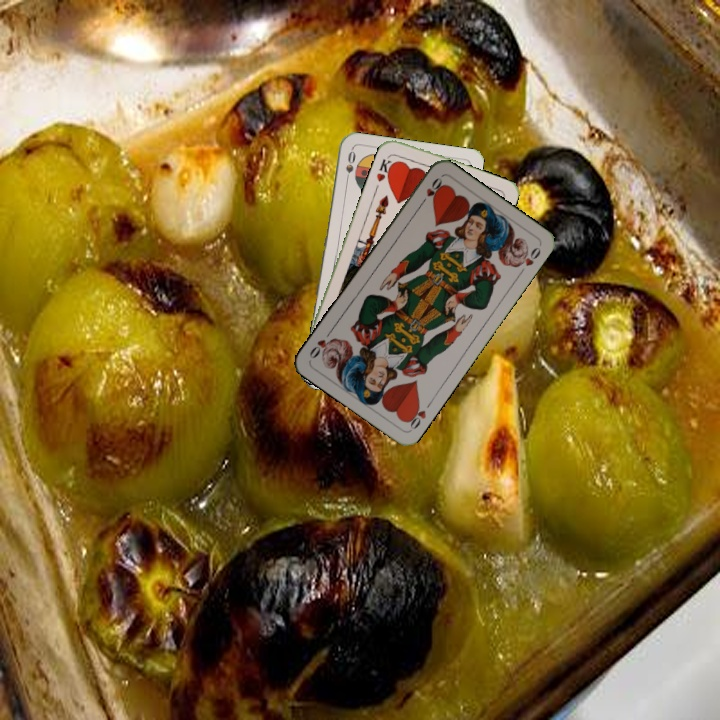HK: (372, 151, 397, 184)
HO: (402, 397, 435, 432), (416, 173, 445, 208)
SO: (341, 146, 358, 187)
